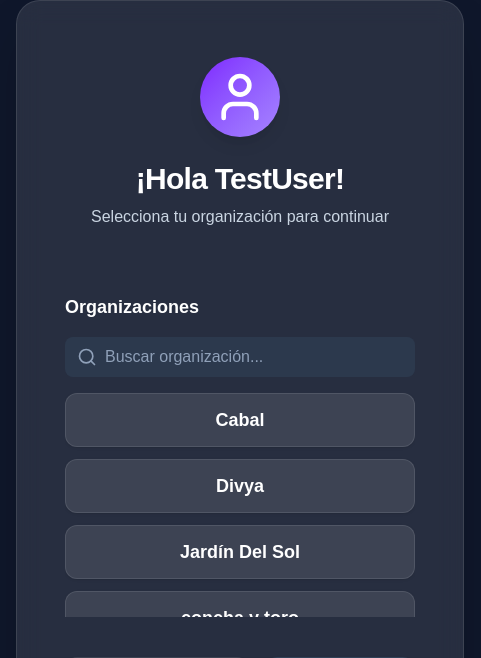
it: OrganizationSelectionPage integración › filtra organizaciones al buscar
Type "Cabal" into the field with placeholder "Buscar organización..." at (240,357), box [65,337,415,377]
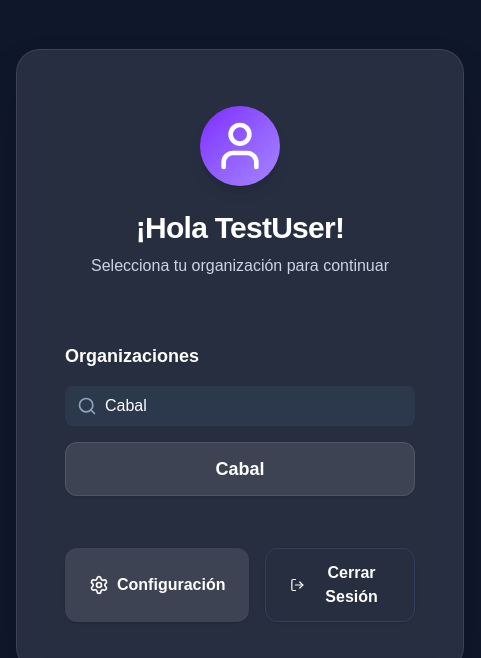
Check: the button "Cabal" is shown, box [65,442,415,496]
Check: the button "Divya" is gone
